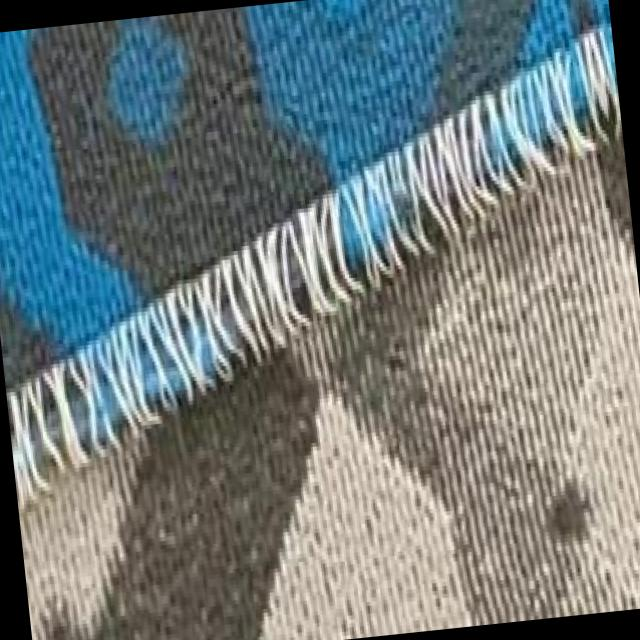gray stitch: (289, 27, 636, 321), (0, 212, 331, 509)
